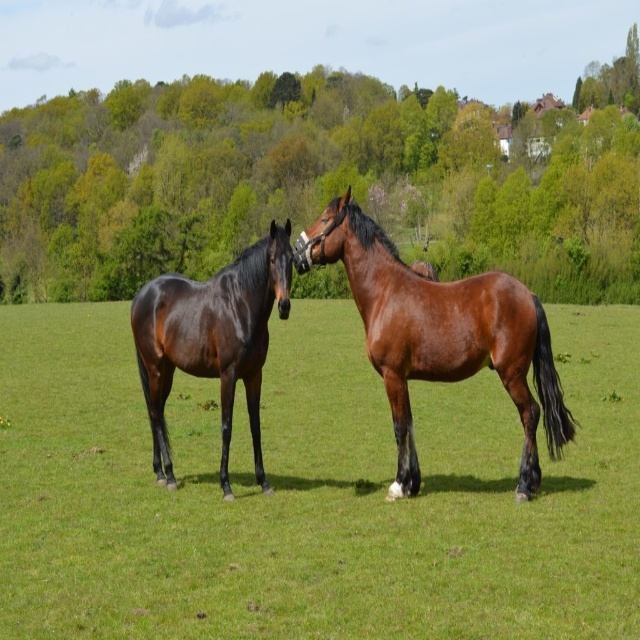Horse: (297, 184, 579, 504), (127, 217, 296, 501)
